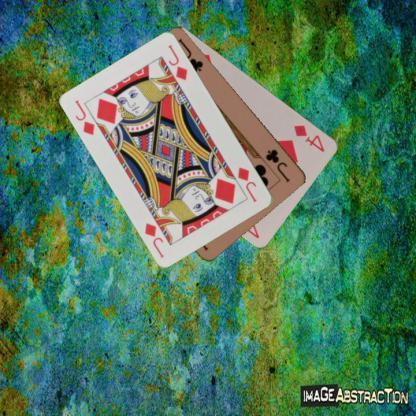4d: (292, 122, 326, 154)
Jc: (263, 146, 292, 183)
Jd: (72, 96, 96, 136), (235, 164, 258, 204)
